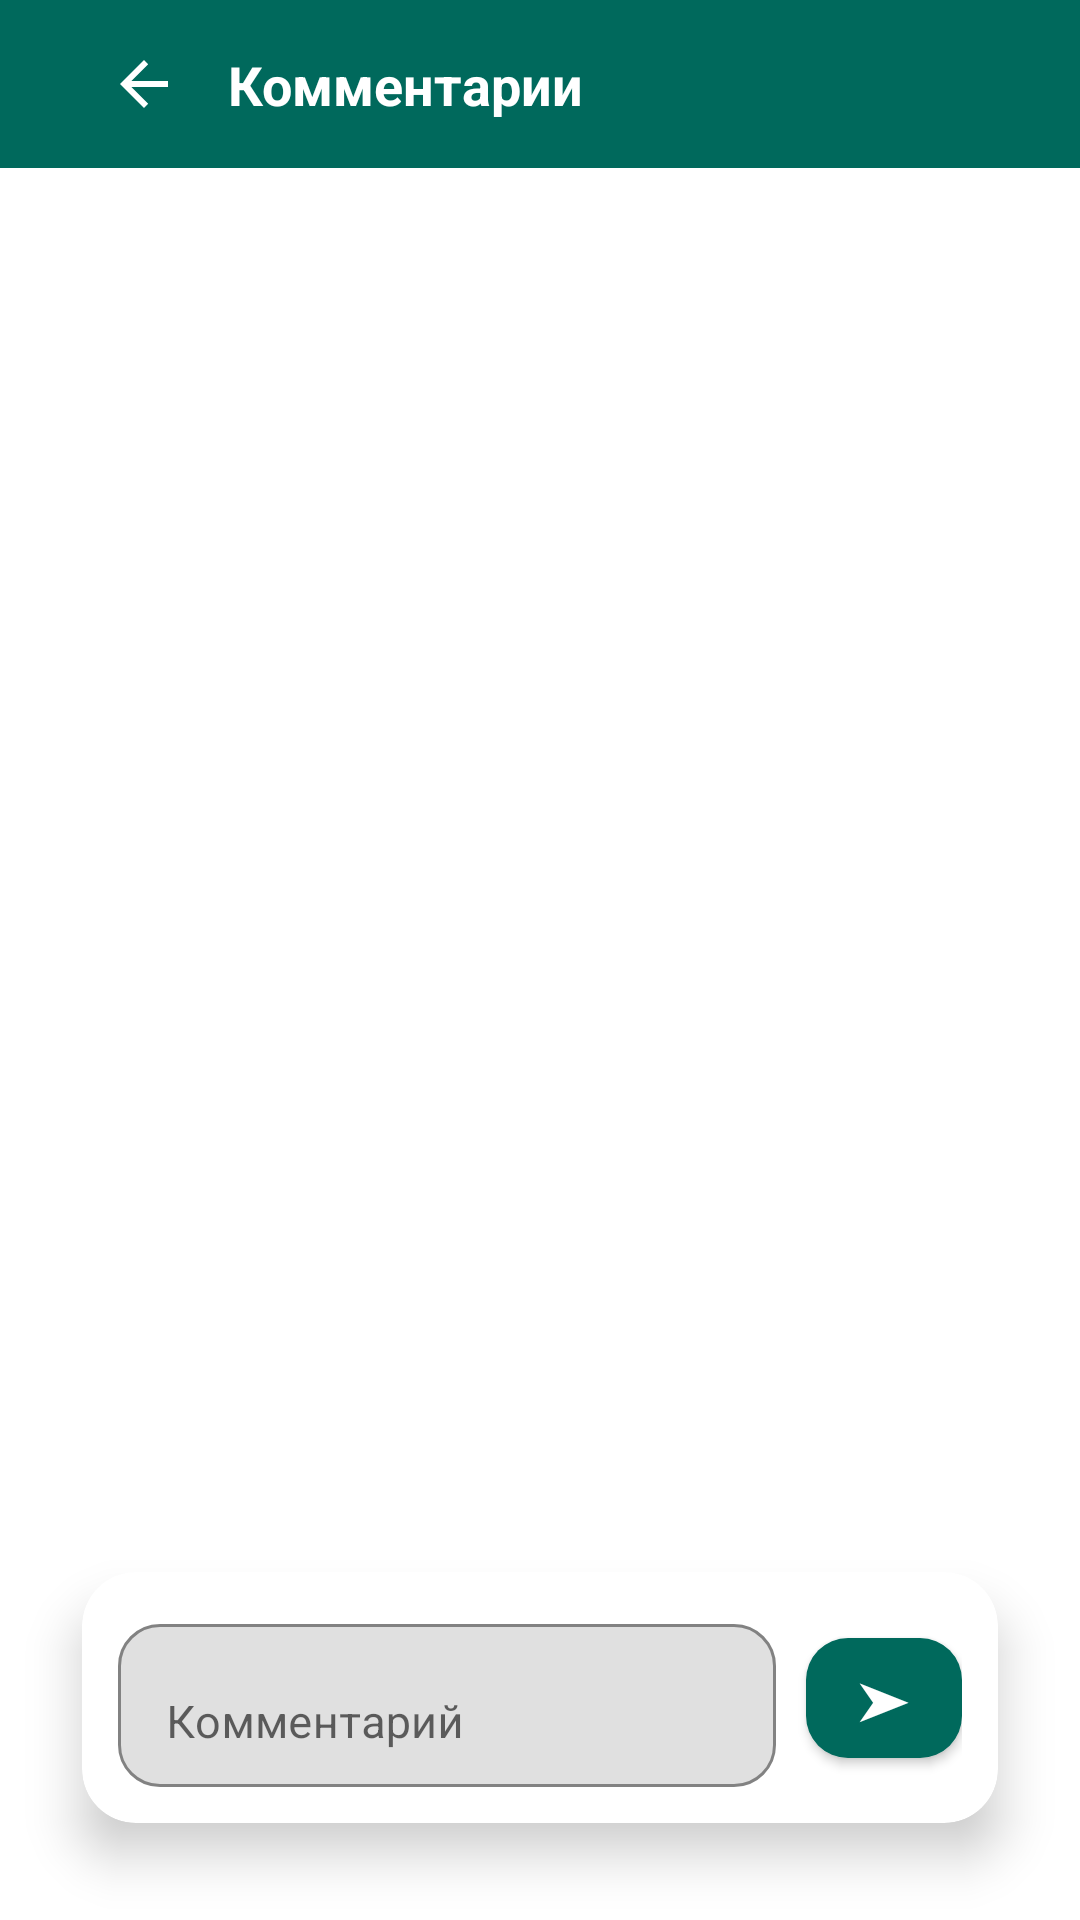

Named icons in this screenshot (1080×1920) and their centers, (x=x, y=y):
back: (x=144, y=84)
